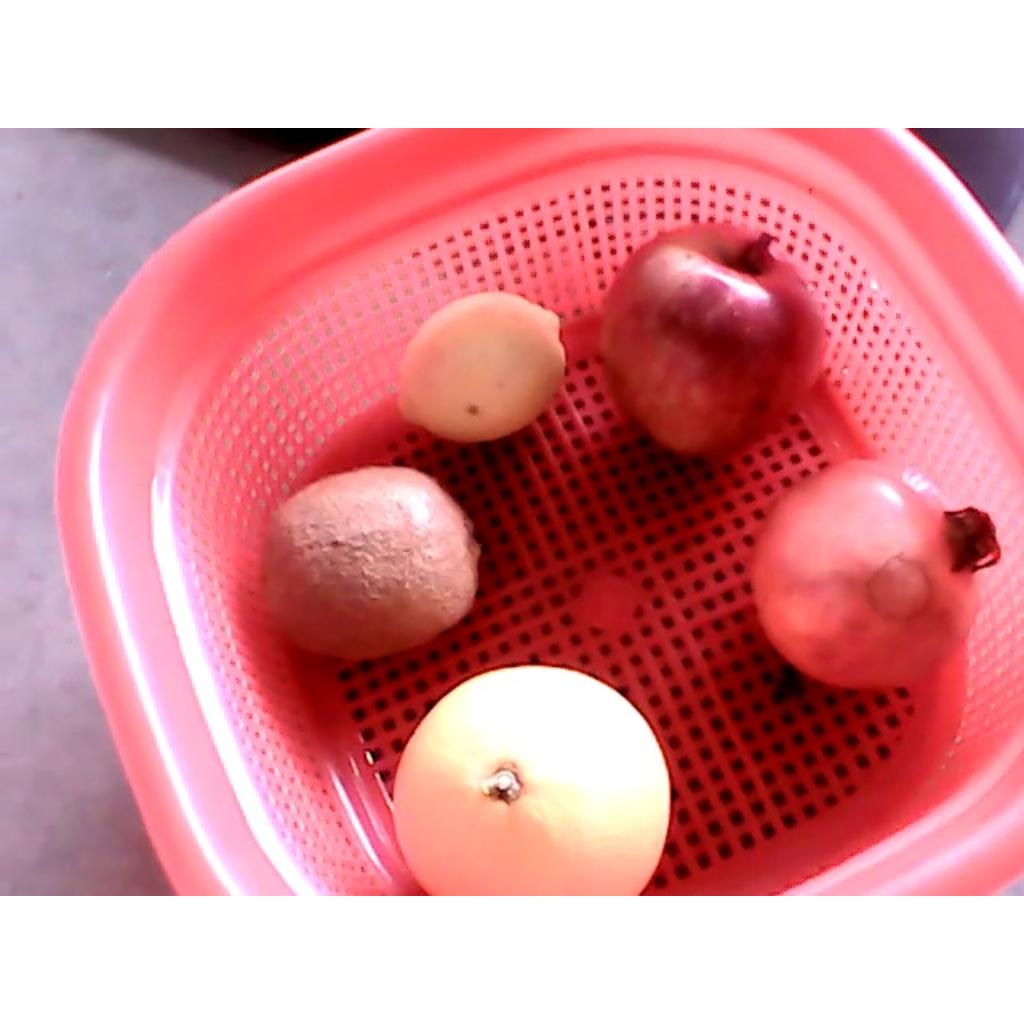apple: (600, 223, 829, 457)
kiwi: (260, 467, 482, 661)
lemon: (397, 290, 566, 443)
orange: (391, 665, 670, 893)
pomegranate: (751, 459, 1001, 686)
